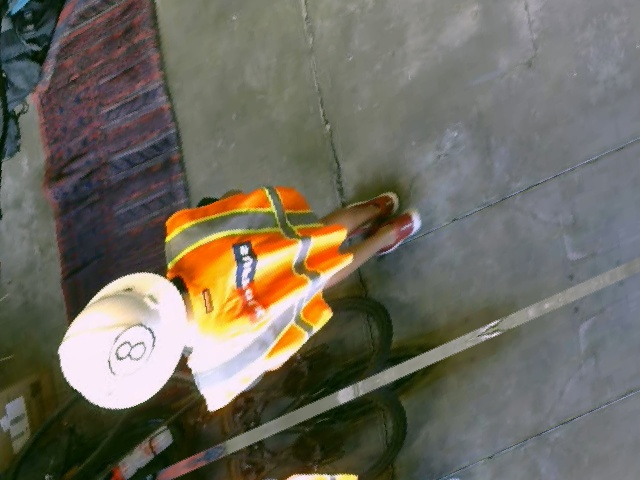eight: (101, 313, 159, 387)
